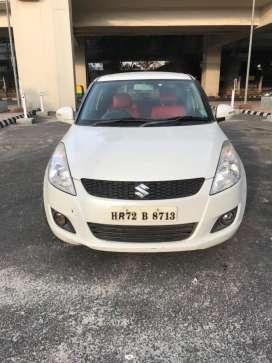license_plate: (110, 205, 180, 223)
